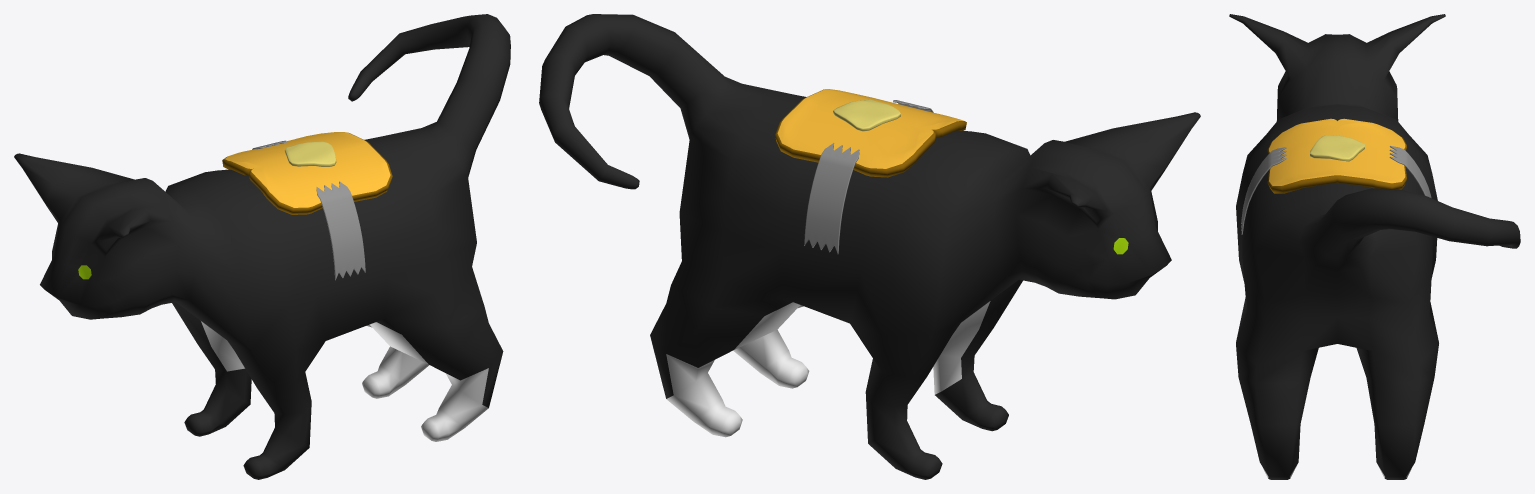
Rendered from Cat(1).fbx.
3 views of the same model, side by side, from view 1: azimuth 30°, elevation 25°; view 2: azimuth 150°, elevation 25°; view 3: azimuth 270°, elevation 25° (orthographic). The views are drawn at different scales.
Visible parts, largest first — view 1: Cat, Cat_Bread; view 2: Cat, Cat_Bread; view 3: Cat, Cat_Bread.
Boxes of the visible parts, x1,y1,x2,y2 form: Cat: (14,14,510,479); Cat_Bread: (222,132,392,280); Cat: (539,14,1200,479); Cat_Bread: (775,89,966,253); Cat: (1229,14,1520,479); Cat_Bread: (1241,118,1431,234).
Bounding box in the file's own units: 72.52 × 47.94 × 37.3.
